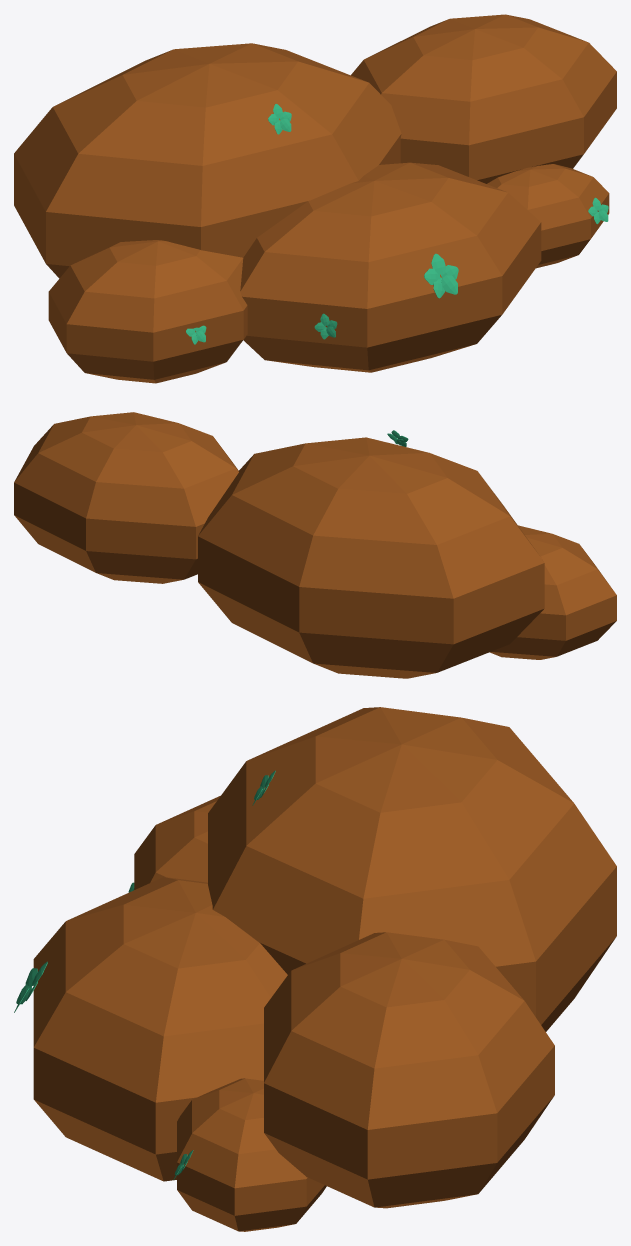
Rendered from arbusto.fbx.
3 renders of one model, top to bottom at view 1: azimuth 30°, elevation 25°; view 2: azimuth 150°, elevation 25°; view 3: azimuth 270°, elevation 25°, orthographic. The views are drawn at different scales.
Visible parts, largest first — view 1: Sphere.001, Sphere, Sphere.002, Sphere.003, Sphere.004; view 2: Sphere.001, Sphere.002, Sphere.003; view 3: Sphere.001, Sphere.002, Sphere, Sphere.004, Sphere.003.
Part boxes in pixels (<box>): Sphere.001: <box>14,43,401,278</box>; Sphere: <box>240,162,541,372</box>; Sphere.002: <box>351,14,616,183</box>; Sphere.003: <box>48,240,247,383</box>; Sphere.004: <box>487,164,609,268</box>; Sphere.001: <box>198,437,544,678</box>; Sphere.002: <box>14,412,238,583</box>; Sphere.003: <box>490,525,616,659</box>; Sphere.001: <box>208,707,616,1031</box>; Sphere.002: <box>264,932,554,1208</box>; Sphere: <box>33,877,287,1181</box>; Sphere.004: <box>177,1078,326,1231</box>; Sphere.003: <box>134,795,220,889</box>.
Size of the model in its own units: 380 by 153 by 244.
